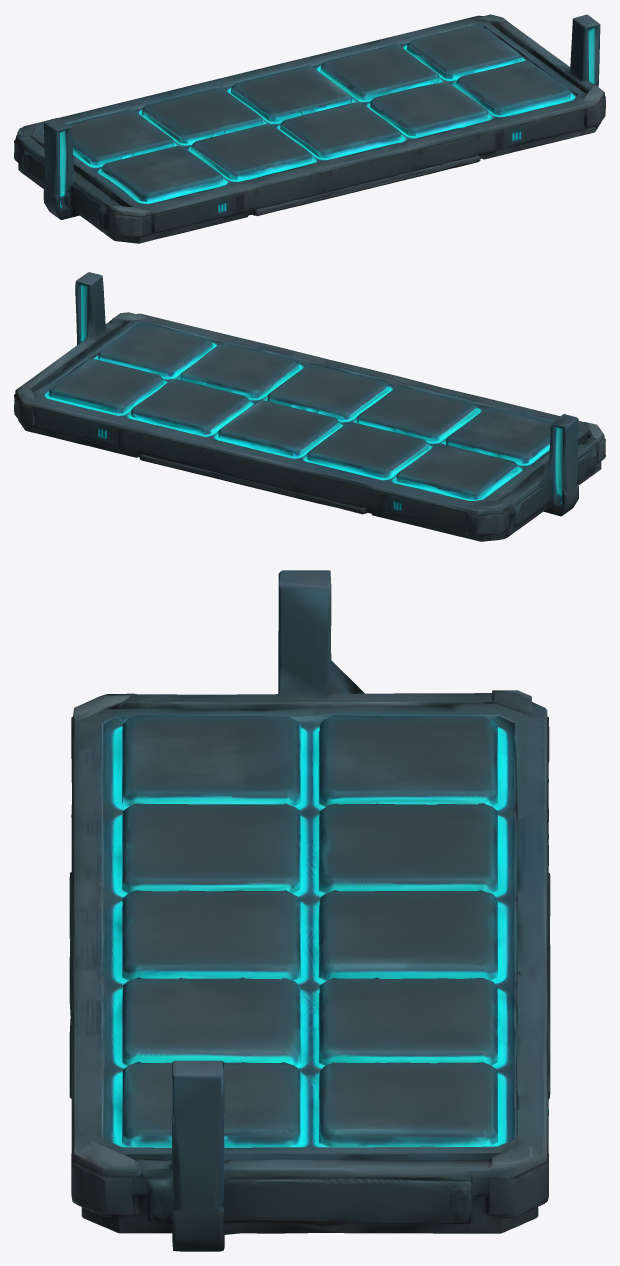
File: player_platform.glb
3 views of the same model, one above another, from view 1: azimuth 30°, elevation 25°; view 2: azimuth 150°, elevation 25°; view 3: azimuth 270°, elevation 25° (orthographic). The views are drawn at different scales.
Visible parts, largest first — view 1: tripo_node_a79d3602-686a-491e-b3ad-3c264375f0d4; view 2: tripo_node_a79d3602-686a-491e-b3ad-3c264375f0d4; view 3: tripo_node_a79d3602-686a-491e-b3ad-3c264375f0d4.
Boxes of the visible parts, box(x1,y1,x2,y2) form: tripo_node_a79d3602-686a-491e-b3ad-3c264375f0d4: box(14, 14, 605, 243); tripo_node_a79d3602-686a-491e-b3ad-3c264375f0d4: box(14, 272, 605, 541); tripo_node_a79d3602-686a-491e-b3ad-3c264375f0d4: box(69, 570, 550, 1251).
Size of the model in its own units: 0.9781 by 0.1659 by 0.3929.
Materials: 1 (1 with a texture image).
